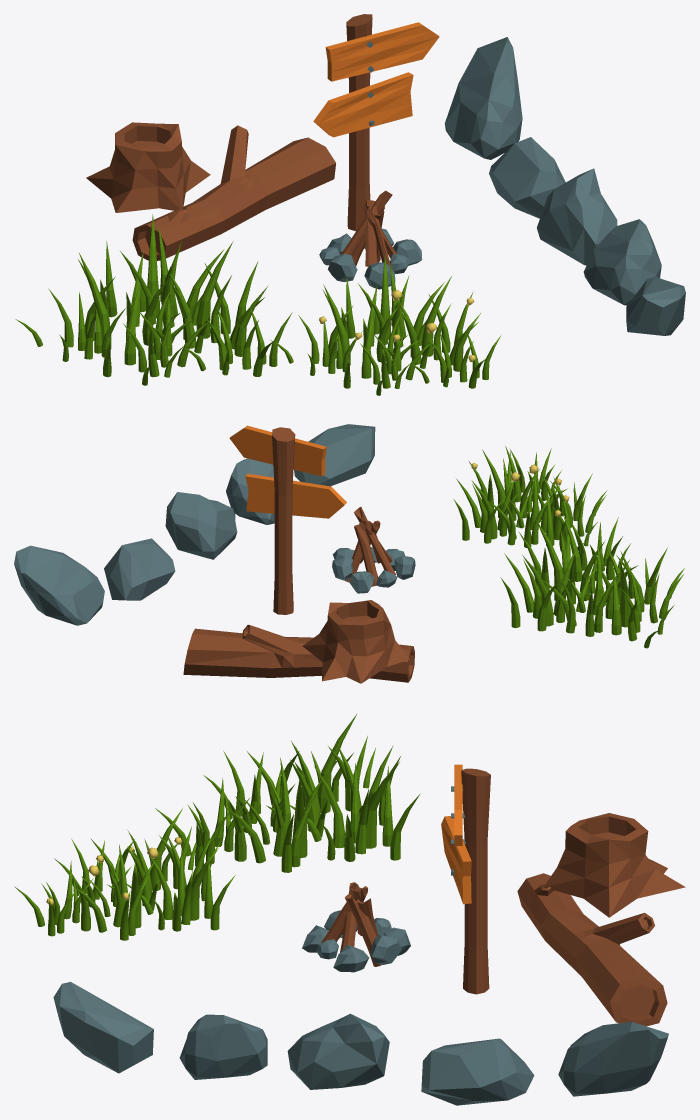
The model's file is grass and shi.fbx.
3 renders of one model, top to bottom at view 1: azimuth 30°, elevation 25°; view 2: azimuth 150°, elevation 25°; view 3: azimuth 270°, elevation 25°, orthographic. The views are drawn at different scales.
Visible parts, largest first — view 1: default3, default6, default5.001, default7, default1, Cube.017, Cube.005, default, Cube.016, Cube.010, Cube.009; view 2: default3, default6, default5.001, default7, default1, Cube.017, Cube.005, default, Cube.010, Cube.009, Cube.016; view 3: default3, default5.001, default7, default1, default6, Cube.017, Cube.010, Cube.005, Cube.009, default, Cube.016.
Boxes of the visible parts, bbox=[...] form: default3: bbox=[15, 214, 292, 385]; default6: bbox=[313, 14, 439, 231]; default5.001: bbox=[270, 253, 501, 395]; default7: bbox=[132, 125, 335, 260]; default1: bbox=[86, 122, 210, 212]; Cube.017: bbox=[444, 37, 522, 159]; Cube.005: bbox=[537, 168, 617, 265]; default: bbox=[319, 190, 422, 289]; Cube.016: bbox=[583, 219, 661, 305]; Cube.010: bbox=[489, 137, 565, 218]; Cube.009: bbox=[626, 277, 685, 335]; default3: bbox=[500, 514, 684, 648]; default6: bbox=[229, 425, 346, 614]; default5.001: bbox=[453, 446, 606, 551]; default7: bbox=[183, 624, 414, 682]; default1: bbox=[302, 600, 409, 683]; Cube.017: bbox=[14, 545, 104, 625]; Cube.005: bbox=[165, 492, 237, 559]; default: bbox=[332, 507, 415, 593]; Cube.010: bbox=[104, 538, 175, 600]; Cube.009: bbox=[294, 424, 375, 486]; Cube.016: bbox=[226, 458, 274, 524]; default3: bbox=[155, 713, 420, 872]; default5.001: bbox=[14, 808, 235, 940]; default7: bbox=[517, 873, 667, 1026]; default1: bbox=[544, 813, 685, 917]; default6: bbox=[441, 764, 490, 994]; Cube.017: bbox=[558, 1022, 668, 1096]; Cube.010: bbox=[421, 1038, 534, 1105]; Cube.005: bbox=[287, 1013, 389, 1089]; Cube.009: bbox=[53, 981, 153, 1073]; default: bbox=[302, 882, 410, 972]; Cube.016: bbox=[179, 1014, 267, 1079].
Bounding box in the file's own units: 2251 × 801 × 2003.
